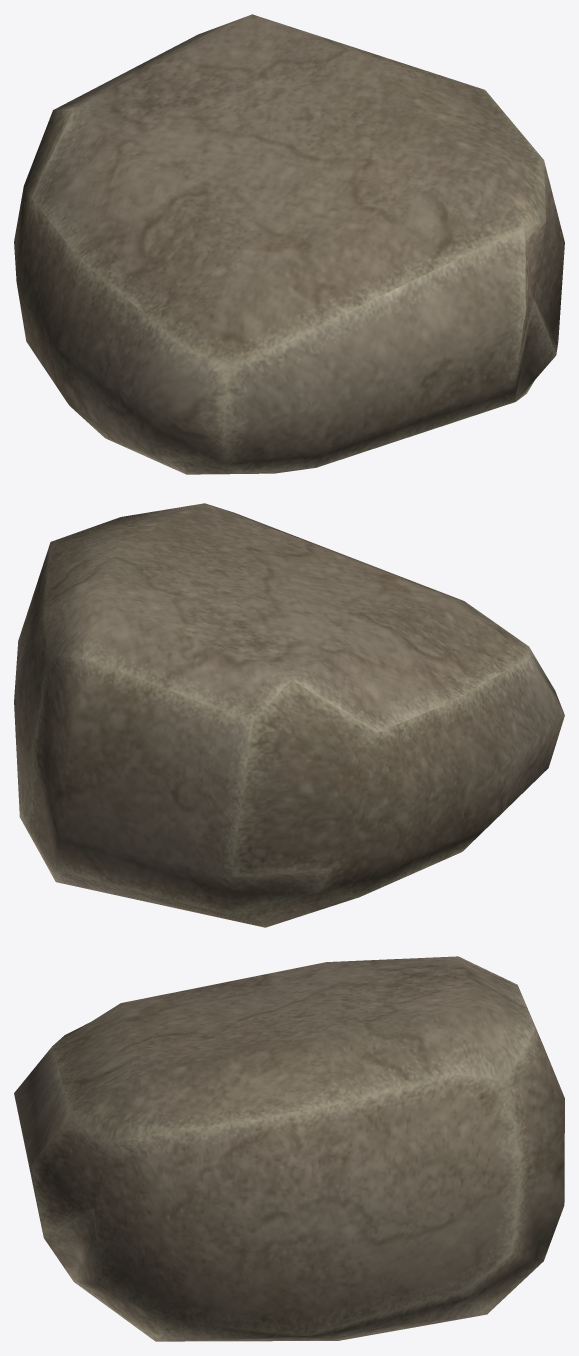
File: Rock_08.fbx
The picture shows the model from 3 angles, top to bottom: view 1: azimuth 30°, elevation 25°; view 2: azimuth 150°, elevation 25°; view 3: azimuth 270°, elevation 25°; orthographic projection. The views are drawn at different scales.
Parts seen in each view (by area): view 1: Rock_08; view 2: Rock_08; view 3: Rock_08.
Boxes of the visible parts, x1=… form: Rock_08: x1=14, y1=14, x2=564, y2=474; Rock_08: x1=14, y1=503, x2=564, y2=927; Rock_08: x1=14, y1=956, x2=564, y2=1341.
Size of the model in its own units: 2.11 by 1.31 by 2.15.
1 material, 1 textured.
